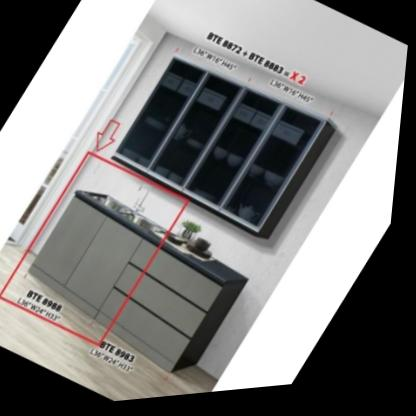Cabinet: (3, 170, 272, 406)
Wooden floor: (0, 250, 222, 404)
